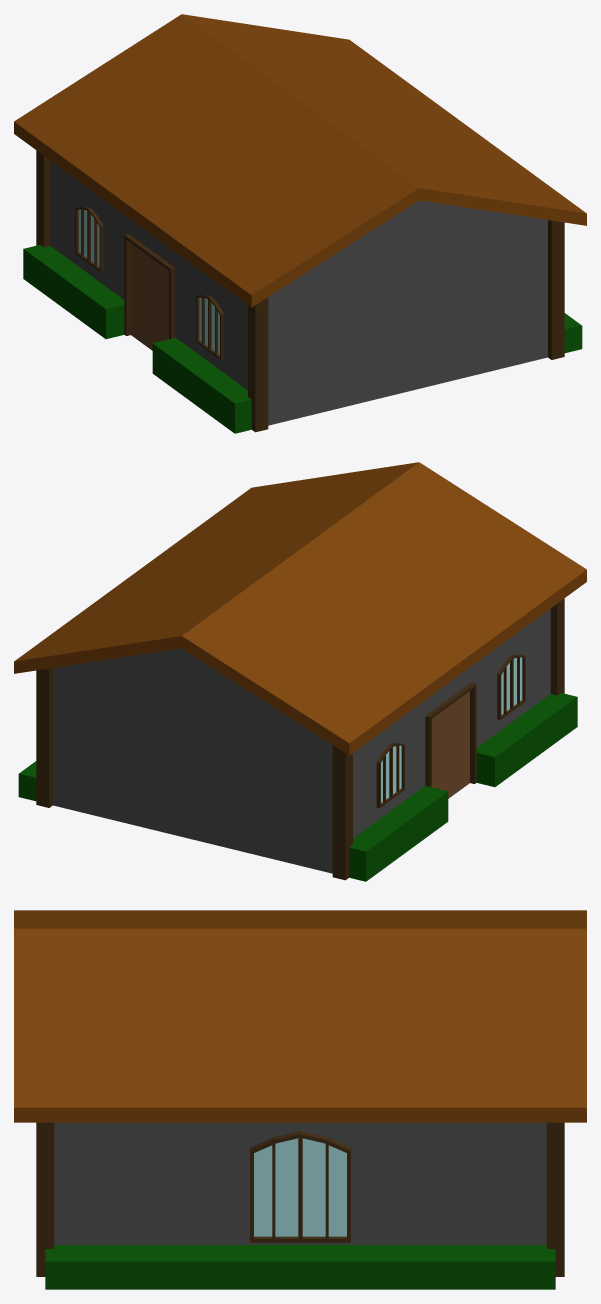
File: Vivienda_Alt1.glb
The picture shows the model from 3 angles, top to bottom: view 1: azimuth 30°, elevation 25°; view 2: azimuth 150°, elevation 25°; view 3: azimuth 270°, elevation 25°; orthographic projection. The views are drawn at different scales.
Visible parts, largest first — view 1: Cube.002; view 2: Cube.002; view 3: Cube.002.
Boxes of the visible parts, x1,y1,x2,y2 form: Cube.002: (14,14,586,433); Cube.002: (14,462,586,881); Cube.002: (14,910,586,1289).
Size of the model in its own units: 9.23 by 5.42 by 10.93.
